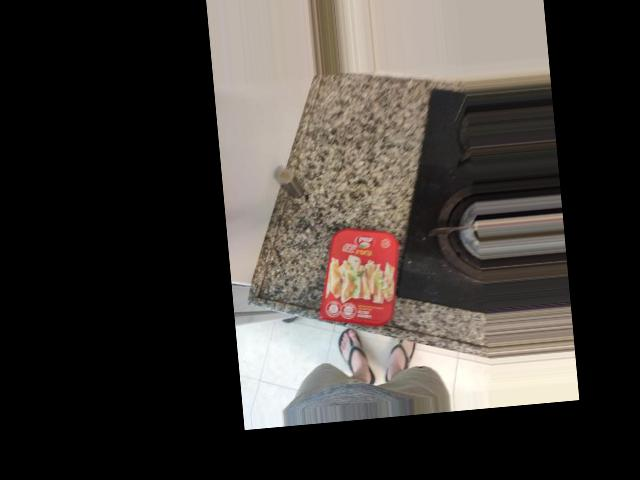cheese: (310, 227, 406, 344)
